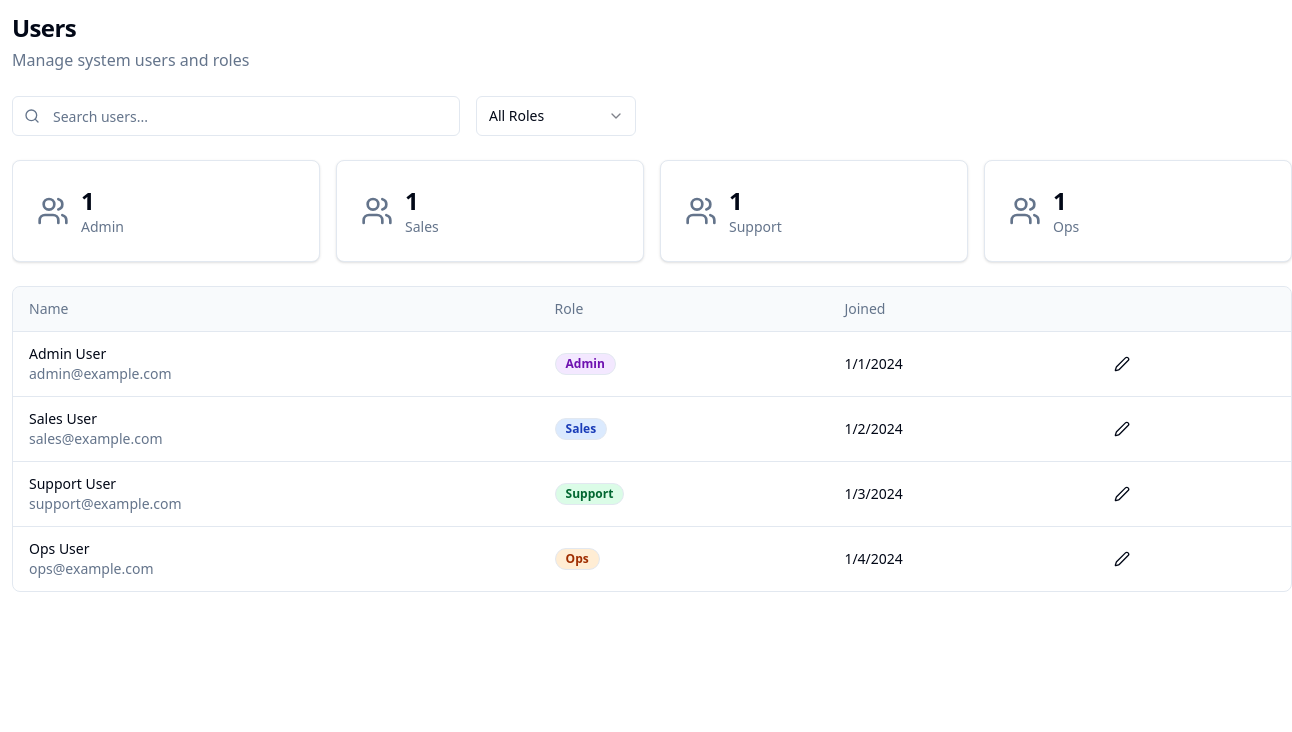
Test: UsersPage › should filter users by search
The image size is (1292, 732).
Type "Admin" into the search field with placeholder "Search users..." at (236, 116), box [12, 96, 460, 136]
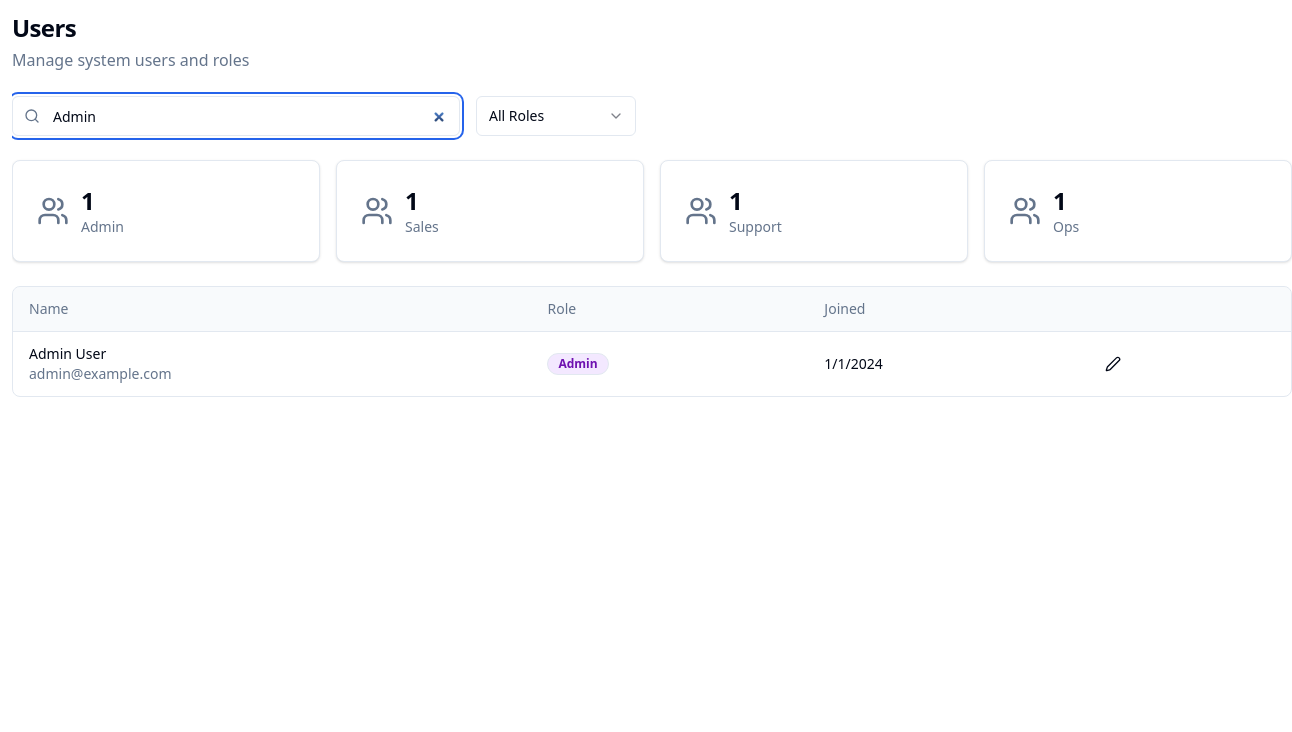
Expected: the text "Admin User" is shown, [29, 344, 106, 363]
Expected: the text "Sales User" is gone
